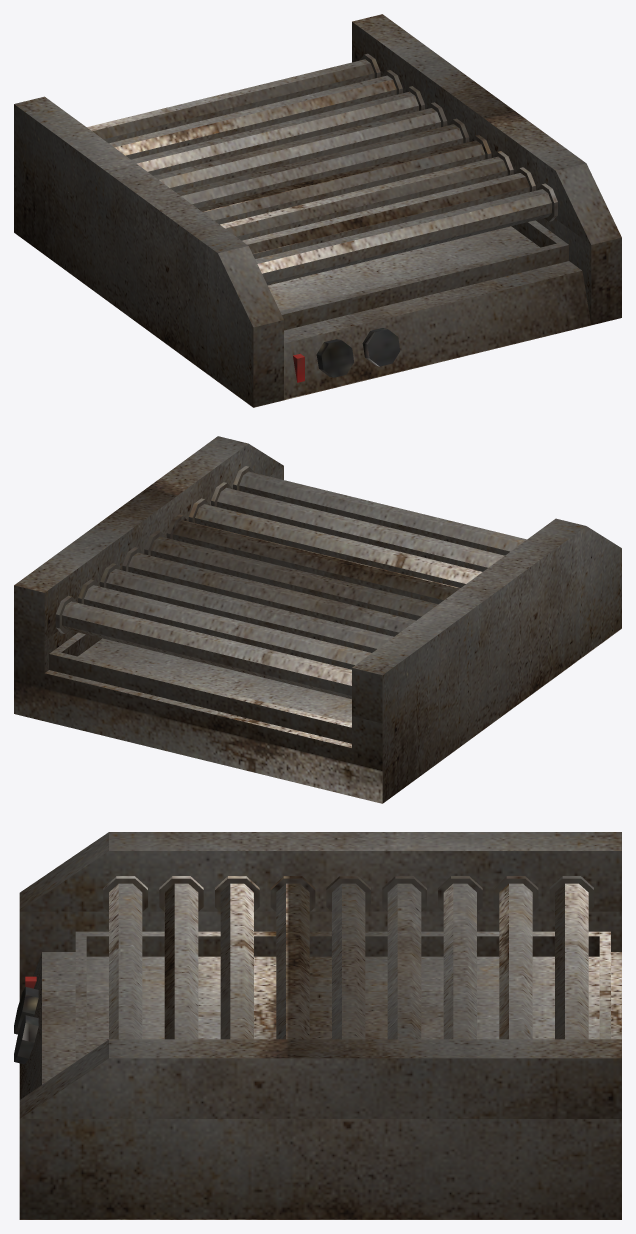
Rendered from psx_hot_dog_roller_grill.glb.
The picture shows the model from 3 angles, top to bottom: view 1: azimuth 30°, elevation 25°; view 2: azimuth 150°, elevation 25°; view 3: azimuth 270°, elevation 25°; orthographic projection. The views are drawn at different scales.
Parts seen in each view (by area): view 1: Object_4, Object_3; view 2: Object_4; view 3: Object_4, Object_3.
Boxes of the visible parts, x1=… form: Object_4: x1=14, y1=14, x2=621, y2=407; Object_3: x1=316, y1=328, x2=399, y2=377; Object_4: x1=14, y1=436, x2=621, y2=803; Object_4: x1=19, y1=832, x2=621, y2=1219; Object_3: x1=14, y1=987, x2=38, y2=1064.
Size of the model in its own units: 96 by 32 by 109.
Materials: 3 (3 with a texture image).
